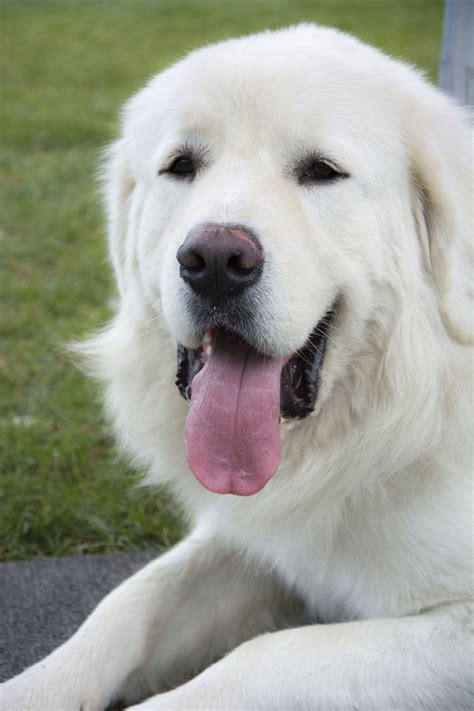dog: (1, 27, 474, 711)
